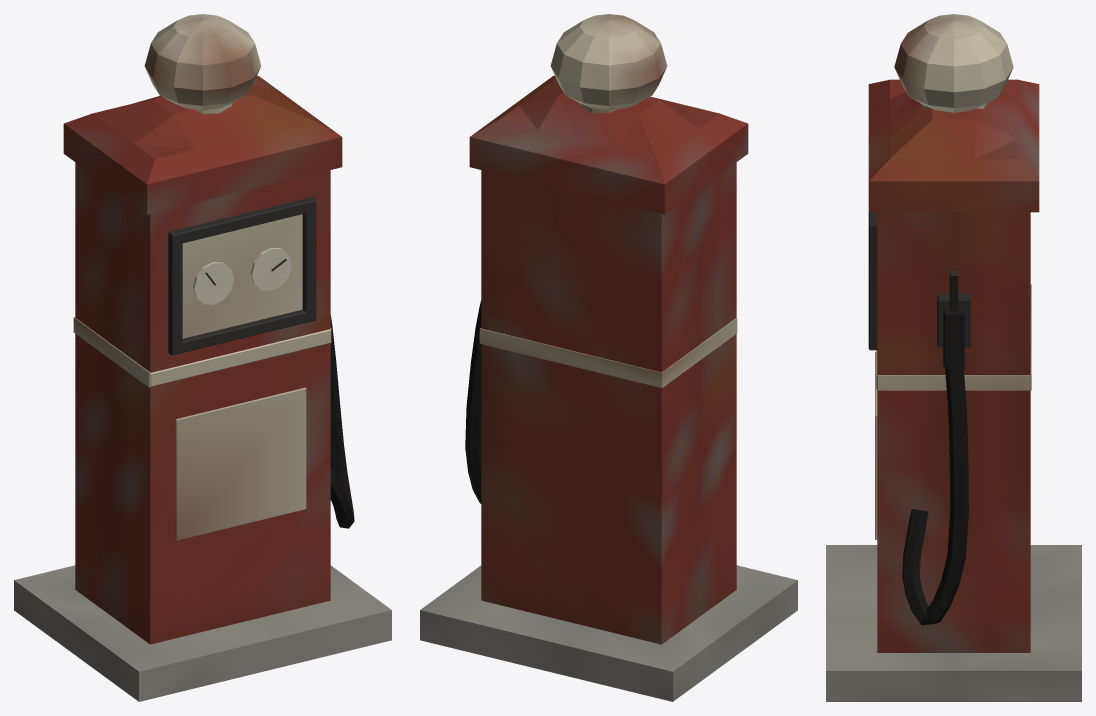
Rendered from old_fuel_pump_01.glb.
3 renders of one model, left to right at view 1: azimuth 30°, elevation 25°; view 2: azimuth 150°, elevation 25°; view 3: azimuth 270°, elevation 25°, orthographic. The views are drawn at different scales.
Parts seen in each view (by area): view 1: old_fuel_pump_01_body, old_fuel_pump_01_base, old_fuel_pump_01_metal; view 2: old_fuel_pump_01_body, old_fuel_pump_01_base; view 3: old_fuel_pump_01_body, old_fuel_pump_01_base, old_fuel_pump_01_metal.
Boxes of the visible parts, x1,y1,x2,y2 form: old_fuel_pump_01_body: (63,14,354,644); old_fuel_pump_01_base: (14,565,391,701); old_fuel_pump_01_metal: (168,197,316,355); old_fuel_pump_01_body: (465,14,748,644); old_fuel_pump_01_base: (420,565,797,701); old_fuel_pump_01_body: (868,14,1039,652); old_fuel_pump_01_base: (826,545,1081,701); old_fuel_pump_01_metal: (868,212,970,368).
Size of the model in its own units: 0.7399 by 1.6 by 0.6.
